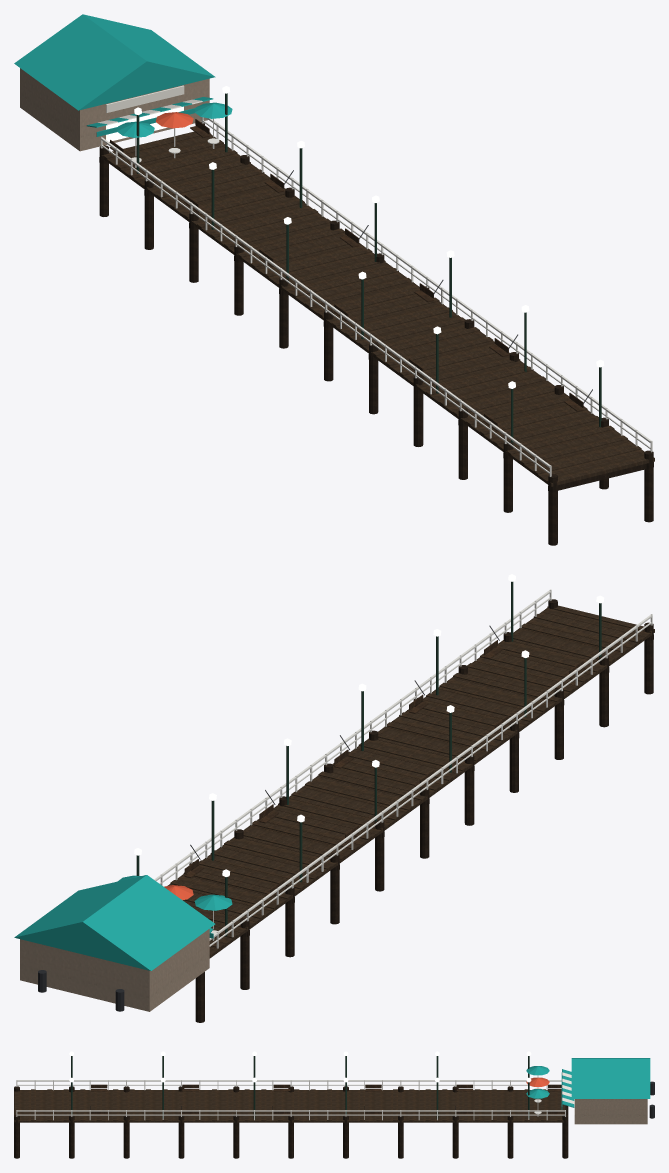
File: OT_Pier.glb
The picture shows the model from 3 angles, top to bottom: view 1: azimuth 30°, elevation 25°; view 2: azimuth 150°, elevation 25°; view 3: azimuth 270°, elevation 25°; orthographic projection. The views are drawn at different scales.
Parts seen in each view (by area): view 1: OT_Pier_Wood, OT_Pier_RoofTeal__1fa6a0, OT_Pier_Piling, OT_Pier_PierRail__f0efe9, OT_Pier_Siding, OT_Pier_PlankGap__3a2a1c, OT_Pier_PoleGreen__1f3a2e, OT_Pier_Wood.001, OT_Pier_Umbrella__1fa6a0, OT_Pier_SignFace__f2efe6; view 2: OT_Pier_Wood, OT_Pier_RoofTeal__1fa6a0, OT_Pier_Piling, OT_Pier_Siding, OT_Pier_PierRail__f0efe9, OT_Pier_PlankGap__3a2a1c, OT_Pier_PoleGreen__1f3a2e, OT_Pier_Wood.001, OT_Pier_GlobeLamp__fff0cc; view 3: OT_Pier_Wood, OT_Pier_PierRail__f0efe9, OT_Pier_Piling, OT_Pier_RoofTeal__1fa6a0, OT_Pier_Siding, OT_Pier_Wood.001, OT_Pier_PlankGap__3a2a1c, OT_Pier_PoleGreen__1f3a2e, OT_Pier_Umbrella__1fa6a0, OT_Pier_AwnTeal__1fa6a0, OT_Pier_GlobeLamp__fff0cc, OT_Pier_AwnW__f0efe9.
Boxes of the visible parts, x1,y1,x2,y2 form: OT_Pier_Wood: [101, 130, 654, 486]; OT_Pier_RoofTeal__1fa6a0: [14, 14, 215, 110]; OT_Pier_Piling: [99, 122, 653, 545]; OT_Pier_PierRail__f0efe9: [100, 117, 652, 476]; OT_Pier_Siding: [20, 68, 209, 151]; OT_Pier_PlankGap__3a2a1c: [108, 134, 644, 477]; OT_Pier_PoleGreen__1f3a2e: [136, 93, 601, 448]; OT_Pier_Wood.001: [109, 119, 583, 431]; OT_Pier_Umbrella__1fa6a0: [117, 102, 232, 137]; OT_Pier_SignFace__f2efe6: [106, 85, 184, 112]; OT_Pier_Wood: [168, 605, 654, 958]; OT_Pier_RoofTeal__1fa6a0: [14, 875, 215, 970]; OT_Pier_Piling: [189, 599, 653, 1022]; OT_Pier_Siding: [20, 929, 209, 1011]; OT_Pier_PierRail__f0efe9: [154, 589, 652, 948]; OT_Pier_PlankGap__3a2a1c: [168, 611, 645, 954]; OT_Pier_PoleGreen__1f3a2e: [136, 581, 601, 936]; OT_Pier_Wood.001: [184, 640, 583, 942]; OT_Pier_GlobeLamp__fff0cc: [134, 574, 604, 876]; OT_Pier_Wood: [14, 1089, 565, 1122]; OT_Pier_PierRail__f0efe9: [16, 1075, 565, 1120]; OT_Pier_Piling: [14, 1086, 568, 1158]; OT_Pier_RoofTeal__1fa6a0: [571, 1058, 650, 1098]; OT_Pier_Siding: [574, 1099, 647, 1124]; OT_Pier_Wood.001: [91, 1084, 564, 1114]; OT_Pier_PlankGap__3a2a1c: [26, 1090, 556, 1120]; OT_Pier_PoleGreen__1f3a2e: [71, 1056, 529, 1118]; OT_Pier_Umbrella__1fa6a0: [526, 1066, 549, 1098]; OT_Pier_AwnTeal__1fa6a0: [561, 1069, 574, 1109]; OT_Pier_GlobeLamp__fff0cc: [69, 1051, 531, 1082]; OT_Pier_AwnW__f0efe9: [562, 1072, 574, 1103].
Bounding box in the file's own units: 10.6 × 10.2 × 70.12.
Materials: 18 (4 with a texture image).
